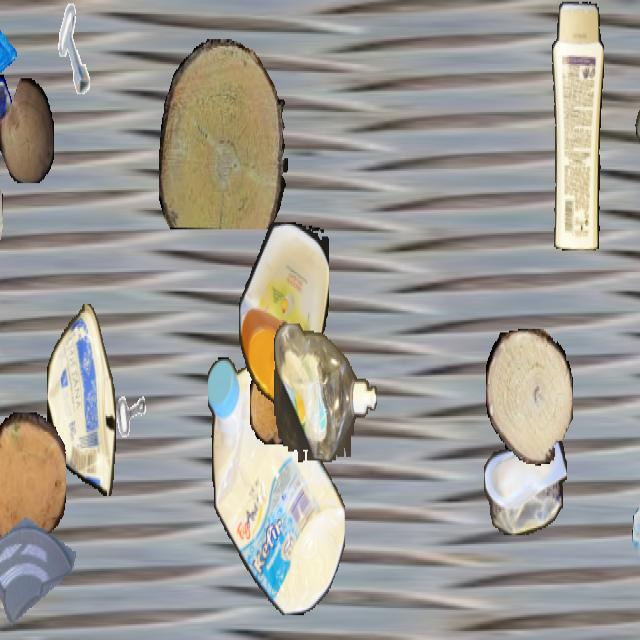glass: (0, 486, 75, 638), (0, 2, 17, 119), (0, 75, 16, 192), (631, 486, 640, 638)
metal: (97, 343, 155, 446), (50, 2, 102, 94)
plastic: (208, 356, 344, 615), (239, 222, 329, 404), (274, 324, 376, 462), (549, 2, 603, 250), (47, 304, 115, 496), (484, 427, 566, 533), (634, 2, 640, 180)
wood: (159, 39, 287, 228), (486, 329, 572, 464), (0, 413, 66, 551), (0, 78, 54, 182), (250, 362, 294, 444), (0, 158, 2, 283)
